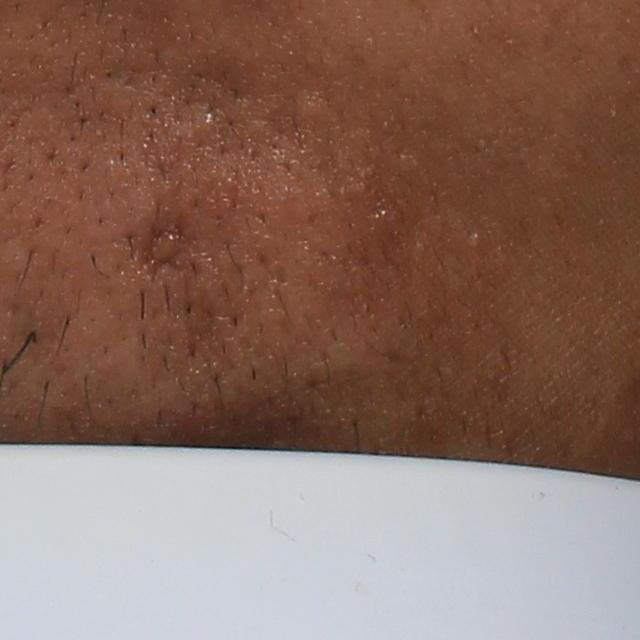atrophic_scar: (135, 227, 187, 278)
comedo: (466, 227, 486, 245)
